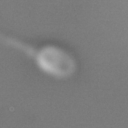normal: (1, 25, 35, 55)
